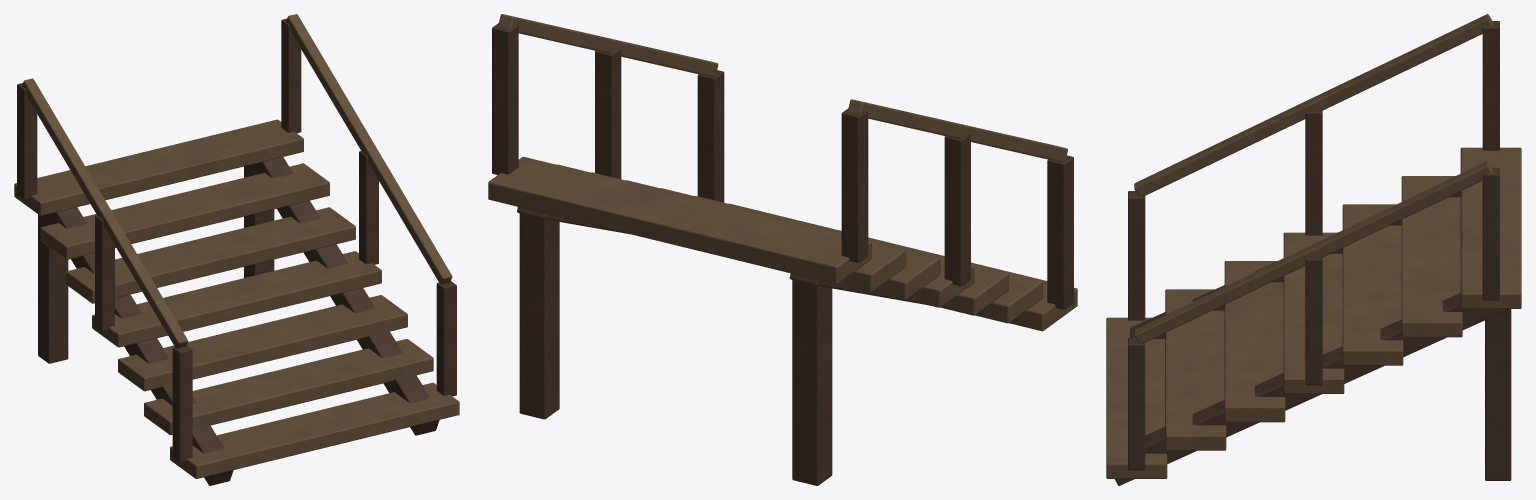
The model's file is Wooden_Stairs.fbx.
3 renders of one model, left to right at view 1: azimuth 30°, elevation 25°; view 2: azimuth 150°, elevation 25°; view 3: azimuth 270°, elevation 25°, orthographic. The views are drawn at different scales.
Parts seen in each view (by area): view 1: Wooden_Stairs.001; view 2: Wooden_Stairs.001; view 3: Wooden_Stairs.001.
Part boxes in pixels (x1=…): Wooden_Stairs.001: x1=14, y1=14, x2=459, y2=485; Wooden_Stairs.001: x1=488, y1=14, x2=1077, y2=485; Wooden_Stairs.001: x1=1106, y1=14, x2=1521, y2=485.
Size of the model in its own units: 2.1 by 2.12 by 2.39.
